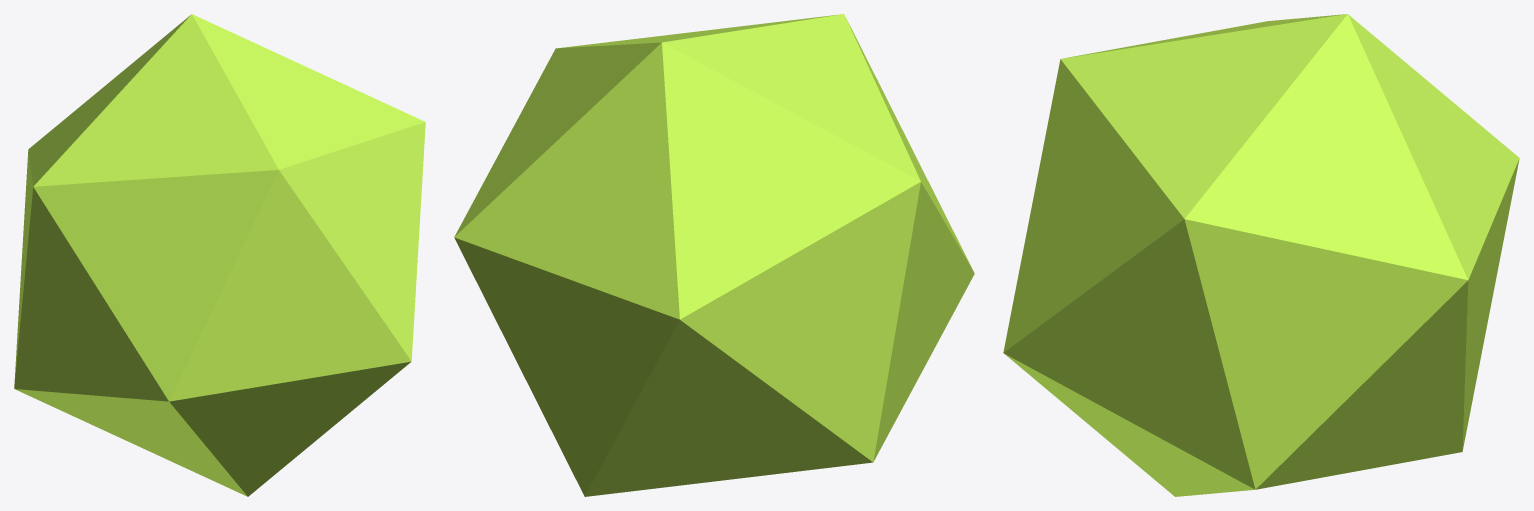
File: bush.glb
The picture shows the model from 3 angles, left to right: view 1: azimuth 30°, elevation 25°; view 2: azimuth 150°, elevation 25°; view 3: azimuth 270°, elevation 25°; orthographic projection. The views are drawn at different scales.
Parts seen in each view (by area): view 1: Icosphere.001; view 2: Icosphere.001; view 3: Icosphere.001.
Part boxes in pixels (left/top/right/bottom): Icosphere.001: left=14, top=14, right=425, bottom=496; Icosphere.001: left=454, top=14, right=974, bottom=496; Icosphere.001: left=1003, top=14, right=1519, bottom=496.
Size of the model in its own units: 0.2419 by 0.2664 by 0.2528.
